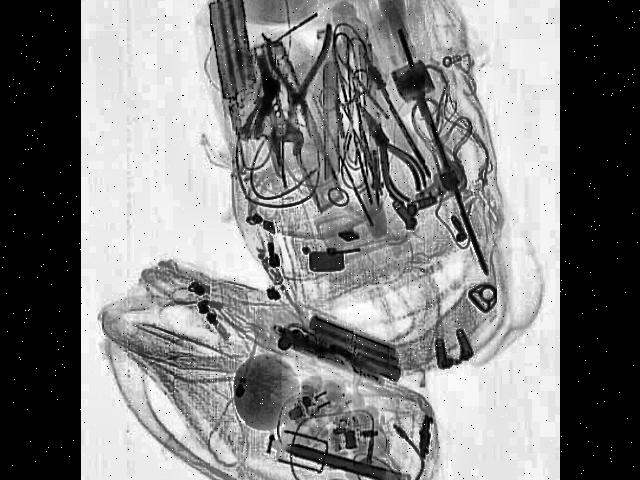Pliers: (344, 89, 430, 221), (264, 25, 334, 145)
Wrench: (246, 36, 304, 172)
